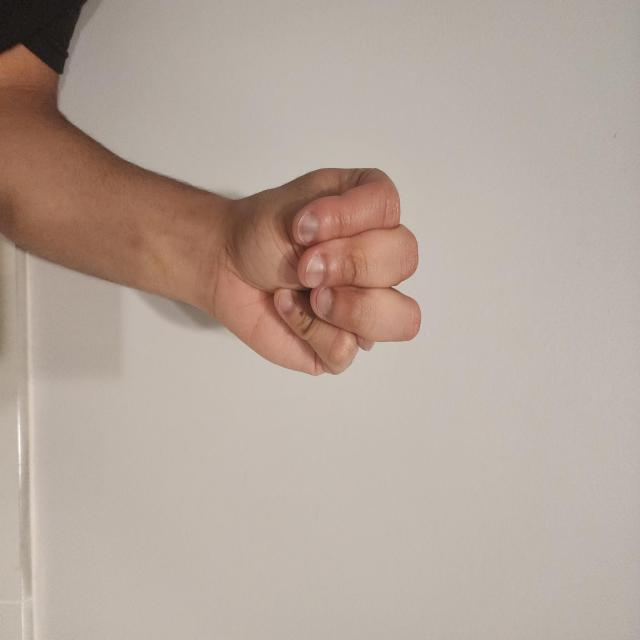M: (281, 285, 447, 578)
